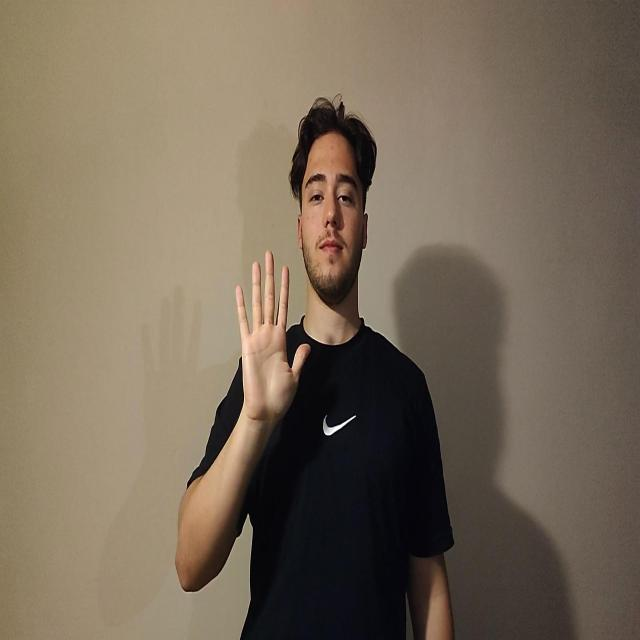hello: (235, 249, 311, 424)
